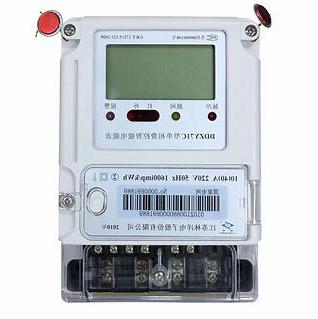digital: (60, 16, 261, 245)
